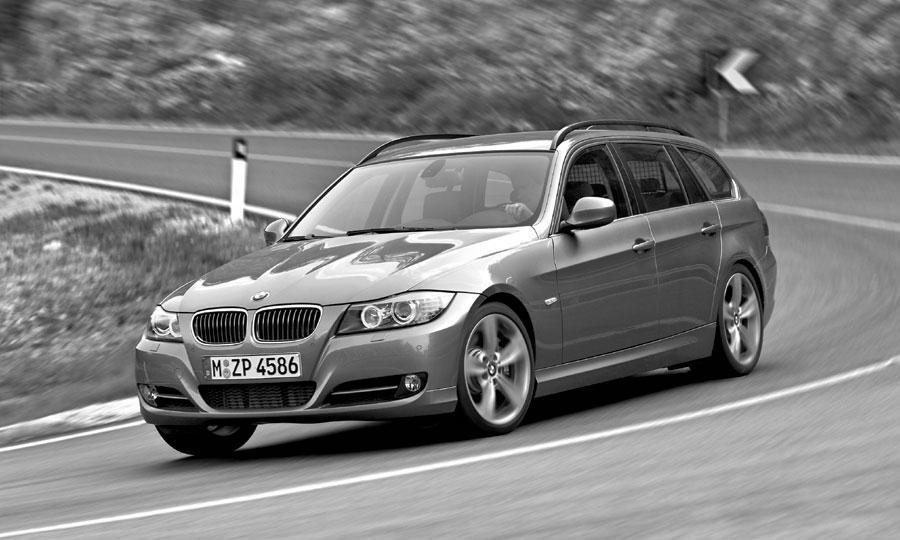car: (98, 93, 808, 478)
